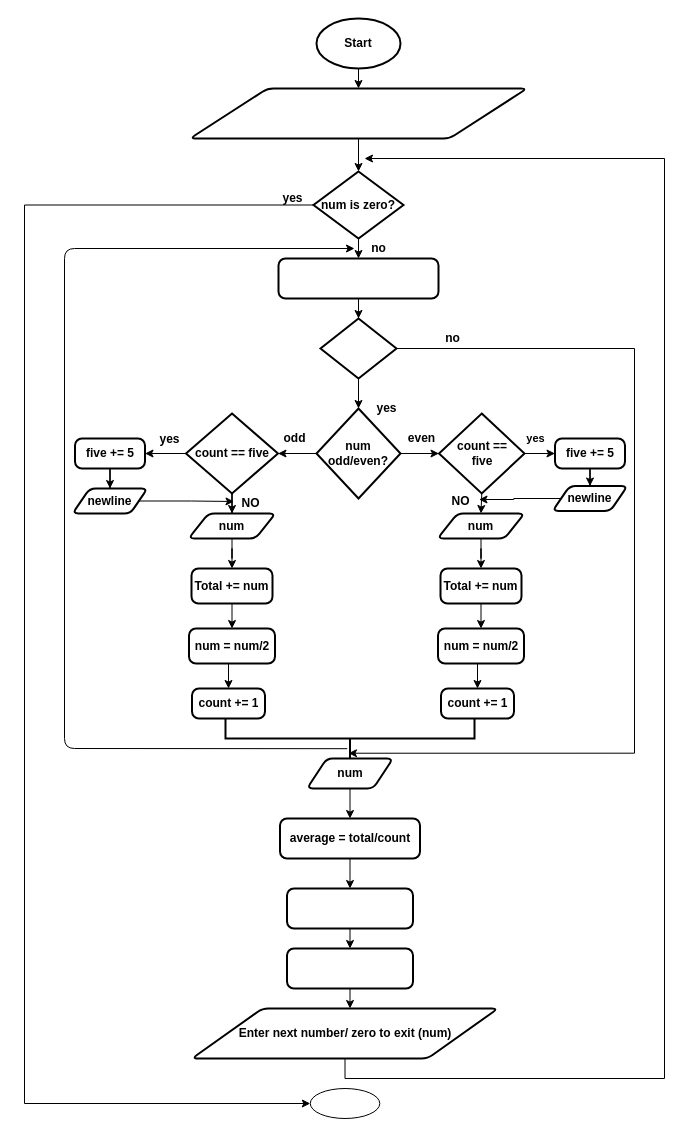
The diagram is 690 pixels wide and 1136 high, and some of its shapes have lost their labels. Here are the shapes that lost their labels. From the top down, the centre of each, then its label:
At point 358,113: "Enter positive number/ zero to exit (num)".
At point 358,278: "count,total,average =0 five = 5".
At point 358,348: "num>1".
At point 350,908: "it took 'count' iteration".
At point 350,968: "average".
At point 344,1103: "END".
